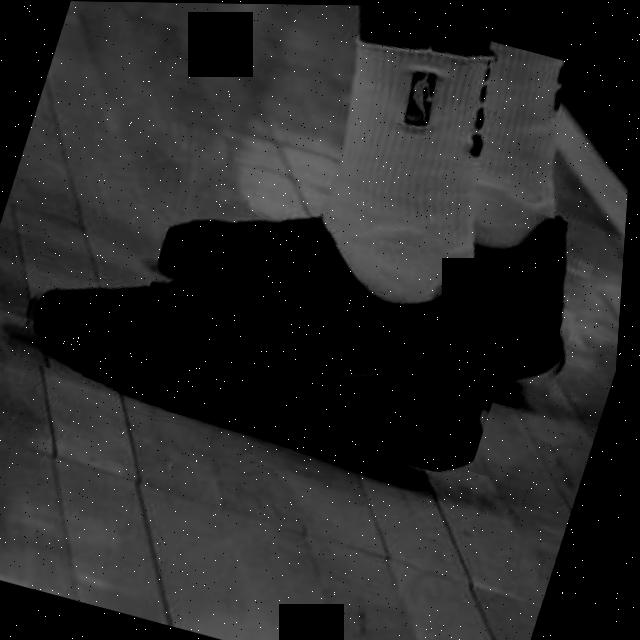shoe: (8, 147, 543, 479), (143, 122, 614, 409)
